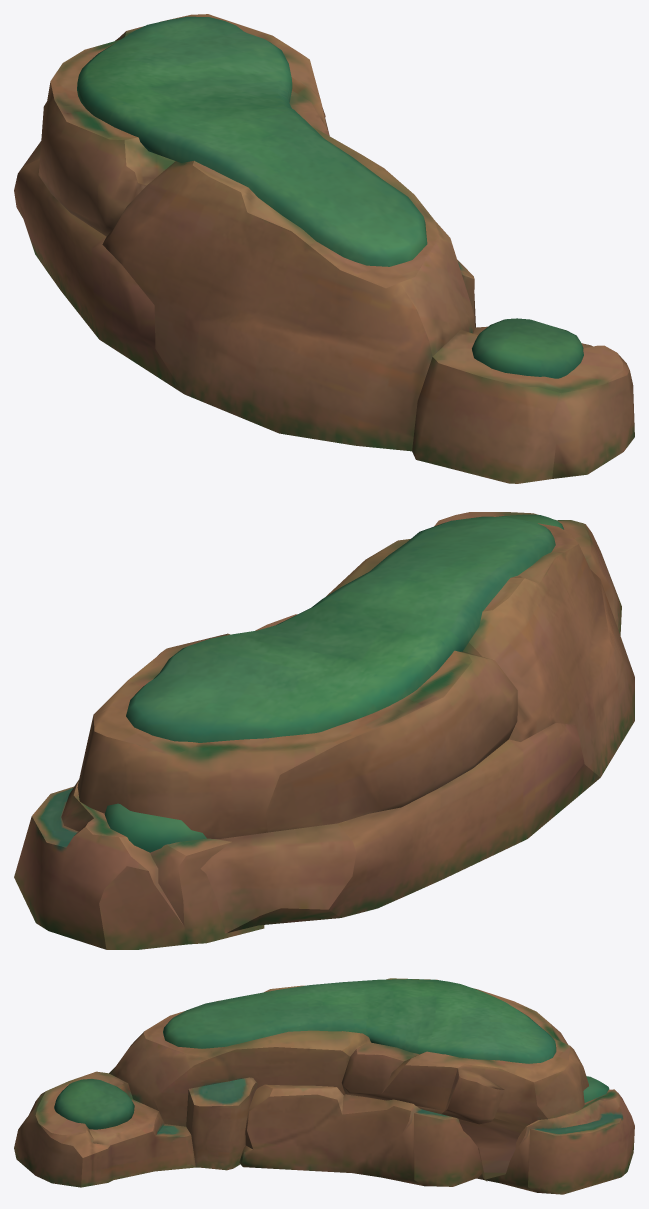
The model's file is Pref_sm_beach_techobstacle09_lv3.fbx.
3 renders of one model, top to bottom at view 1: azimuth 30°, elevation 25°; view 2: azimuth 150°, elevation 25°; view 3: azimuth 270°, elevation 25°, orthographic. The views are drawn at different scales.
Visible parts, largest first — view 1: Pref_sm_beach_techobstacle09_lv3; view 2: Pref_sm_beach_techobstacle09_lv3; view 3: Pref_sm_beach_techobstacle09_lv3.
Part boxes in pixels (x1,y1,x2,y2): Pref_sm_beach_techobstacle09_lv3: (14,14,634,483); Pref_sm_beach_techobstacle09_lv3: (14,512,634,949); Pref_sm_beach_techobstacle09_lv3: (14,978,634,1194).
Bounding box in the file's own units: 3.22 × 1.8 × 7.75.
